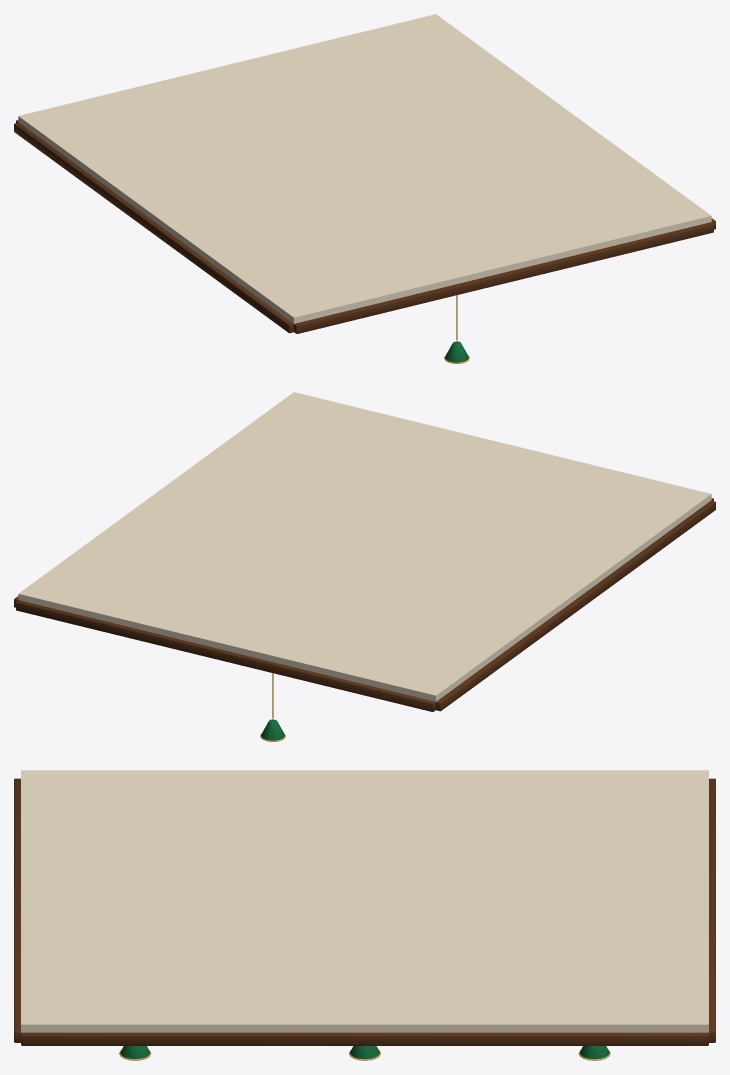
Rendered from HallCeiling.fbx.
3 views of the same model, one above another, from view 1: azimuth 30°, elevation 25°; view 2: azimuth 150°, elevation 25°; view 3: azimuth 270°, elevation 25° (orthographic). The views are drawn at different scales.
Visible parts, largest first — view 1: HallCeiling; view 2: HallCeiling; view 3: HallCeiling.
Boxes of the visible parts, left/top/right/bottom form: HallCeiling: left=14, top=14, right=715, bottom=363; HallCeiling: left=14, top=392, right=715, bottom=741; HallCeiling: left=14, top=770, right=715, bottom=1060.
Bounding box in the file's own units: 7160 × 2025 × 8160.
